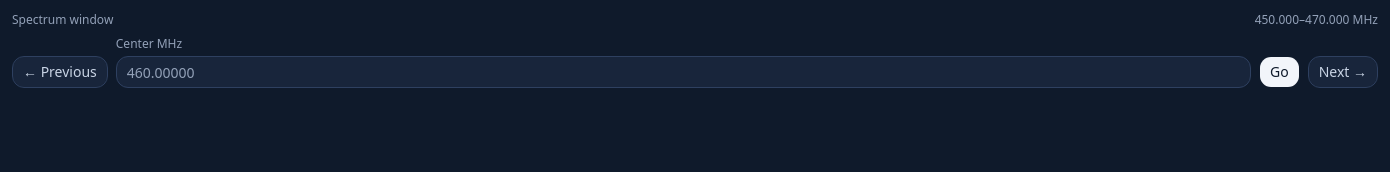
Test: moves by the RF width, accepts a new center, and displays receiver readback
Step 1. Click the button "Next →" → (1343, 72), box top-left (1308, 56), bottom-right (1378, 88)
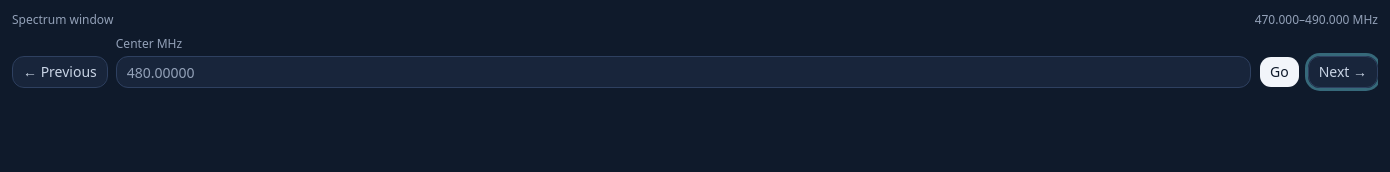
Result: the field labelled "Center MHz" holds "480.00000" at top-left (116, 56), bottom-right (1251, 88)
Step 2. Click the button "← Previous" → (60, 72), box top-left (12, 56), bottom-right (108, 88)
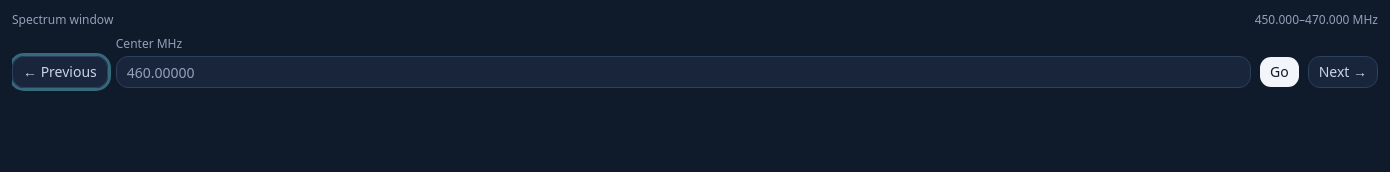
Result: the field labelled "Center MHz" holds "460.00000"
Step 3. Replace the text in the field labelled "Center MHz" with "145" → (683, 72), box top-left (116, 56), bottom-right (1251, 88)
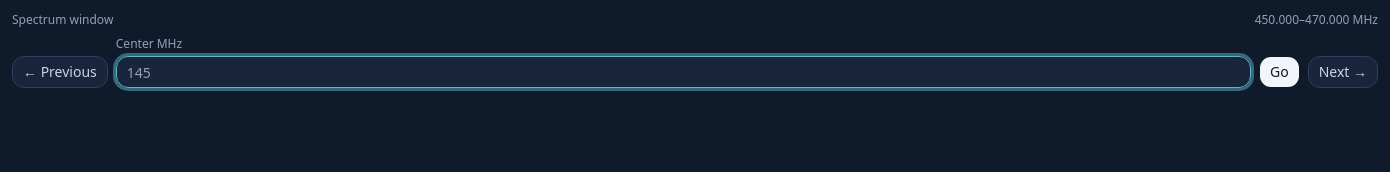
Step 4. Click the button "Go" → (1279, 72), box top-left (1259, 56), bottom-right (1300, 88)
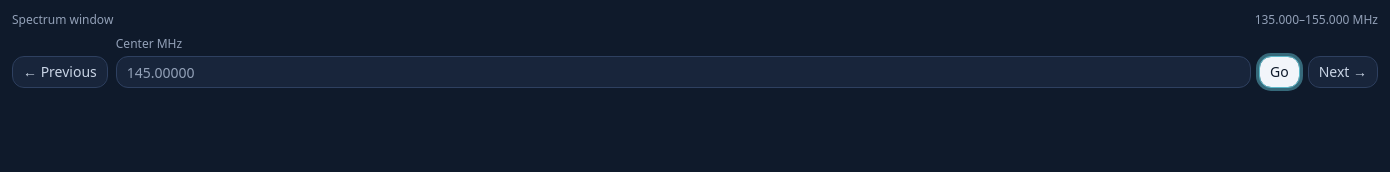
Result: the field labelled "Center MHz" holds "145.00000" at top-left (116, 56), bottom-right (1251, 88)
